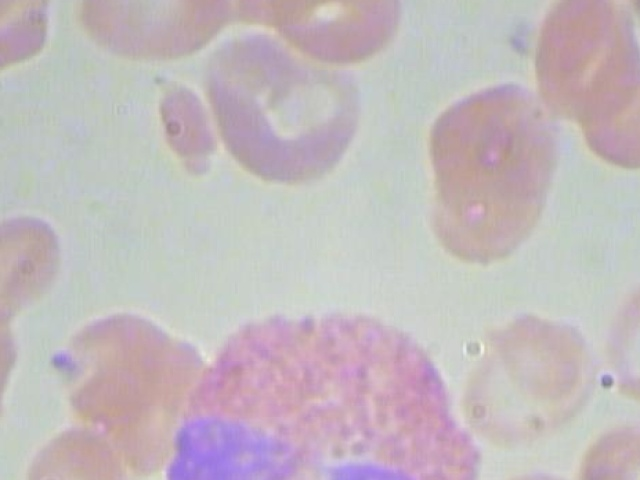RBC: (467, 304, 602, 444), (532, 0, 640, 122), (75, 0, 244, 62), (267, 0, 415, 68), (0, 200, 71, 328), (589, 263, 640, 425), (18, 417, 140, 480), (0, 0, 77, 82), (575, 417, 640, 480)
WBC: (153, 291, 486, 480)
